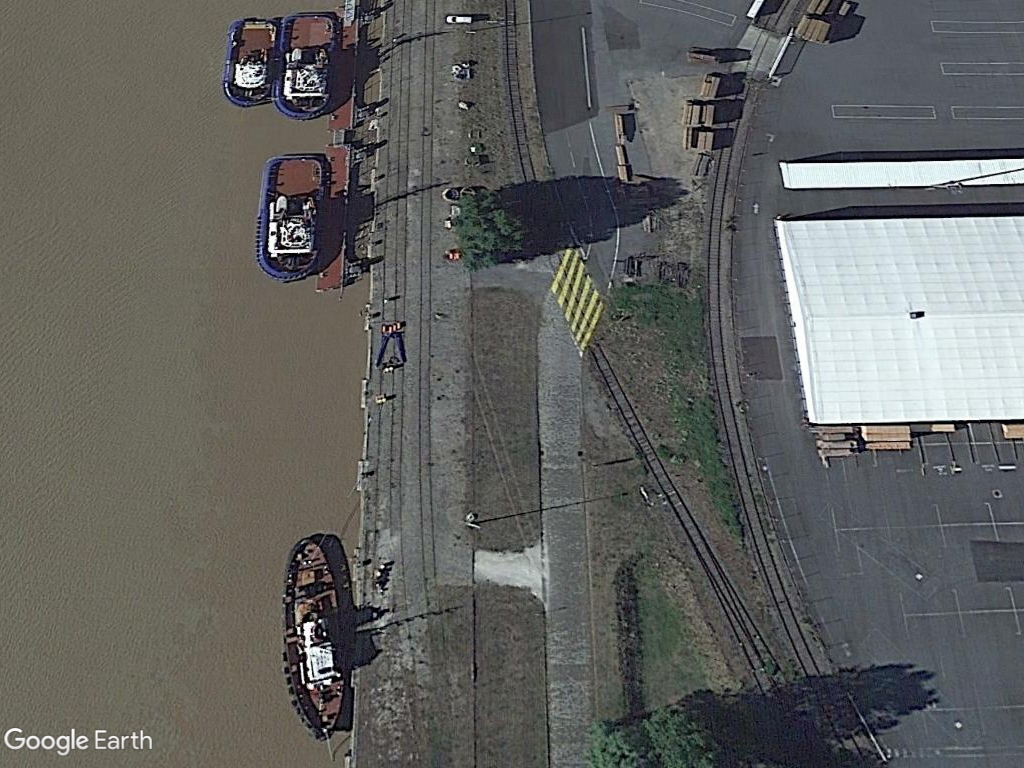boat: (271, 532, 350, 748), (256, 149, 328, 284)
